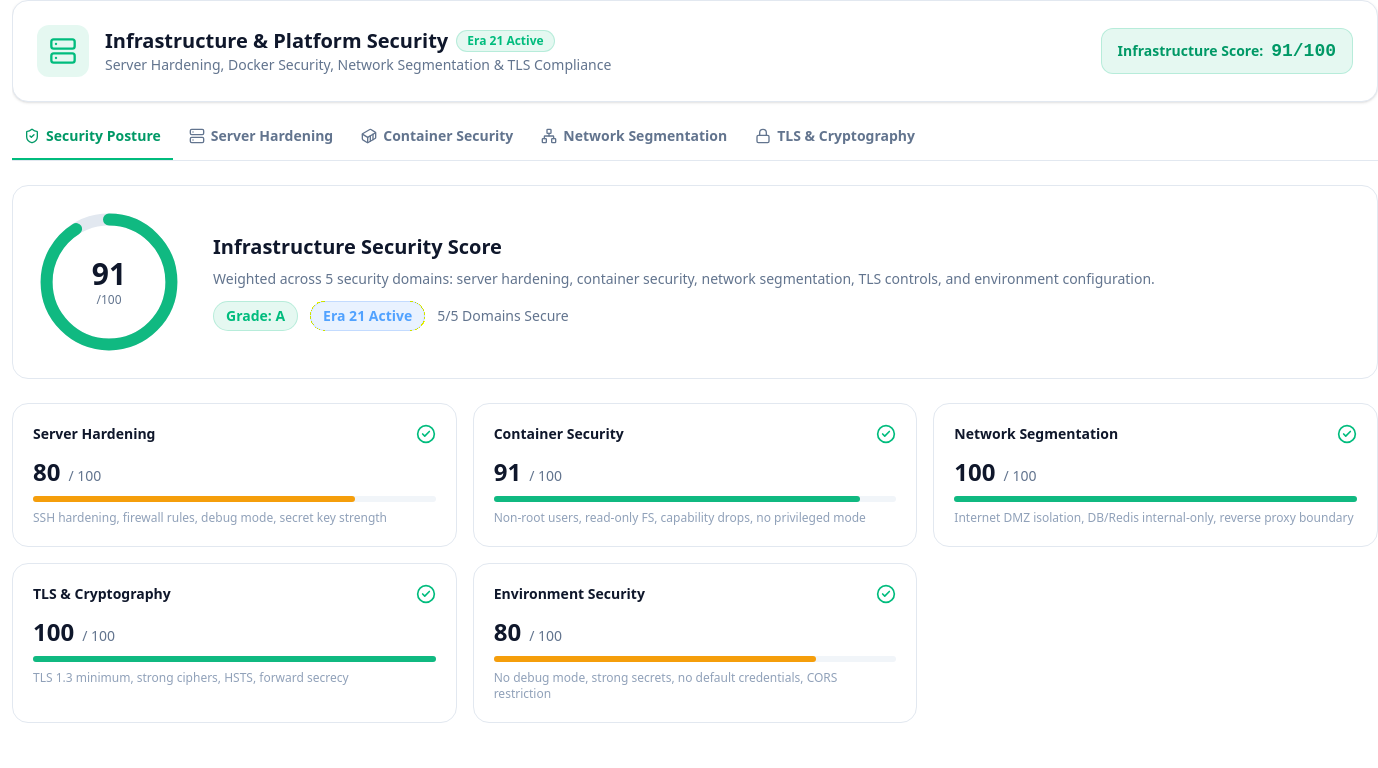
Test: InfrastructureSecurityDashboard › clicking Container Security tab shows Docker checks
The width and height of the screenshot is (1378, 768).
What coordinates should you click on to do the following:
click the button "Container Security"
I would click on:
 (437, 143)
Its box is [349, 126, 525, 160].
(page scrolled)
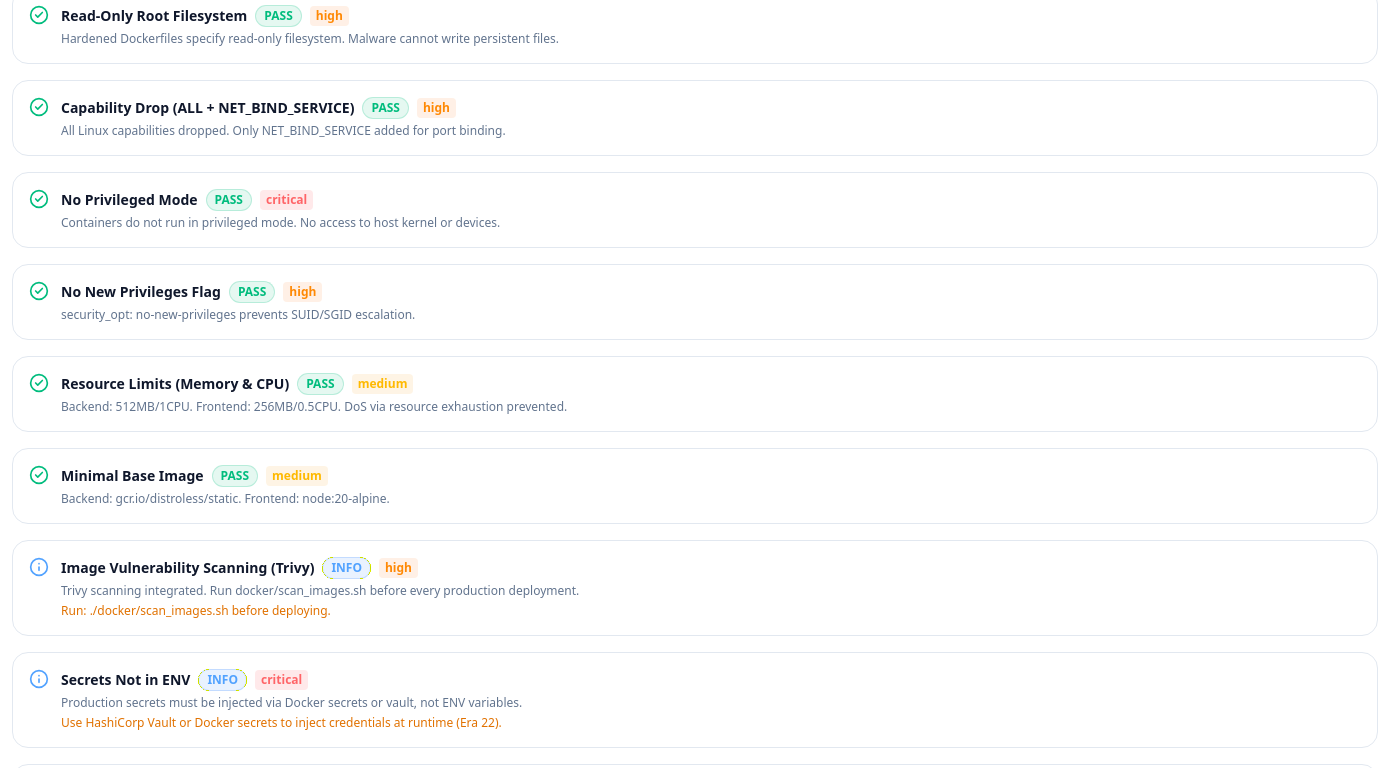
Expected: the text "No Privileged Mode" is shown, [61, 190, 198, 210]
Now the text "Read-Only Root Filesystem" is shown, box [61, 6, 247, 26]
Now the text "Resource Limits (Memory & CPU)" is shown, box [61, 374, 289, 394]
